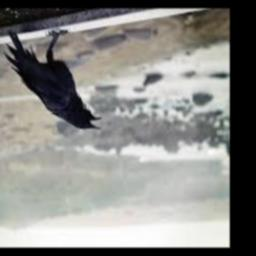Crow: (3, 28, 103, 132)
